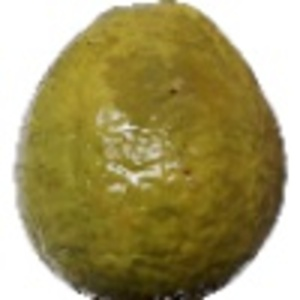goiaba: (10, 6, 290, 297)
